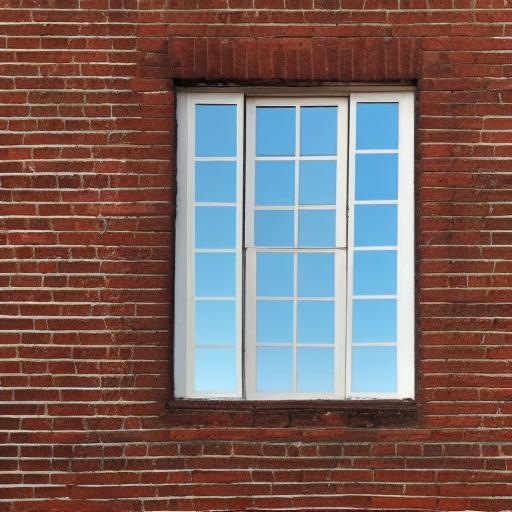Window: (166, 40, 428, 421)
